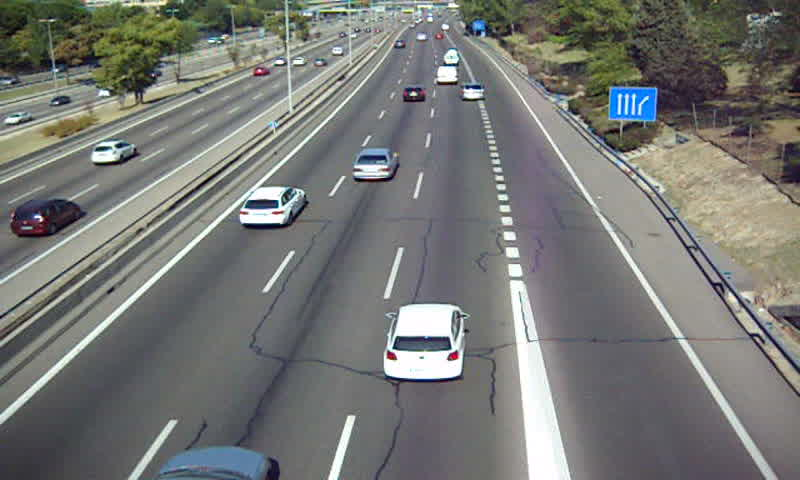car: (384, 303, 466, 379), (237, 187, 305, 227), (353, 148, 399, 183), (460, 83, 485, 101), (401, 86, 426, 104)
van: (436, 65, 459, 85), (446, 52, 460, 65)
